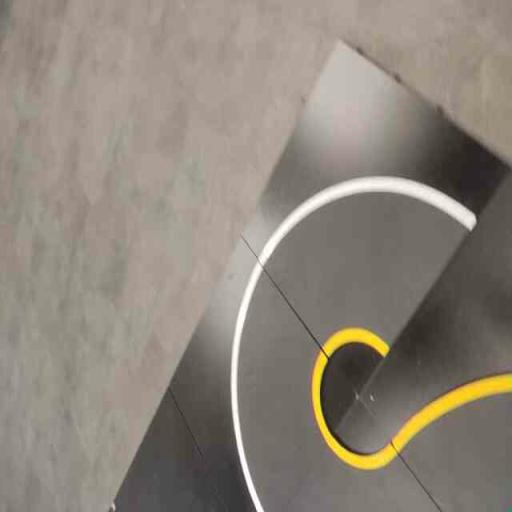left: (258, 116, 477, 358)
